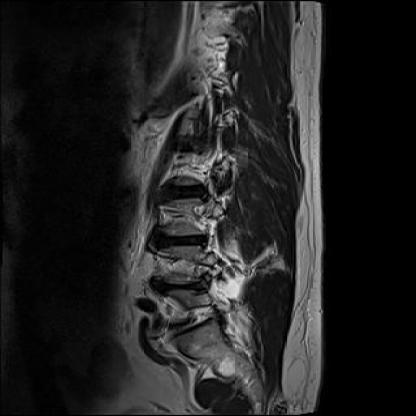Disc Bulgerotation: (135, 271, 261, 335), (141, 173, 238, 218)
